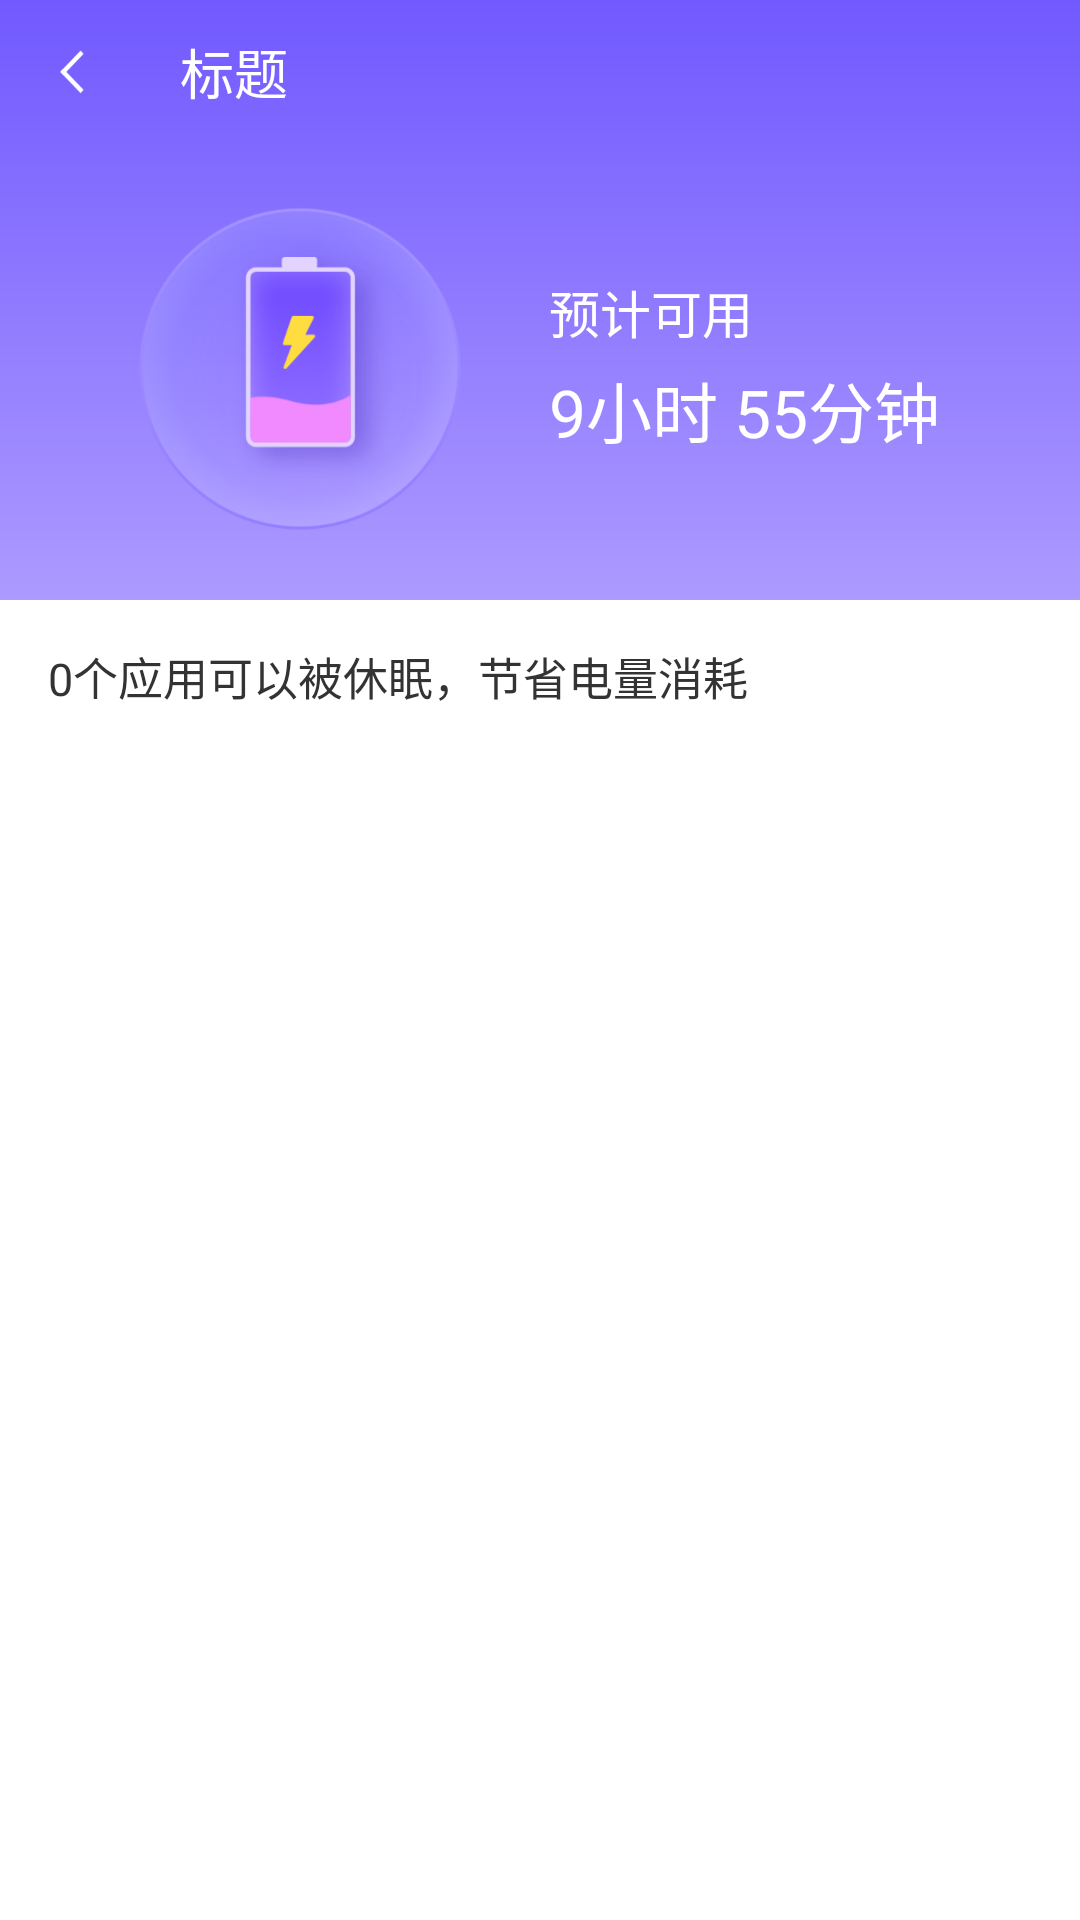

Where to tap for icons on this 1080px x 1920px app screen, as point (x, y):
back: point (72, 71)
power saving battery: point (300, 366)
